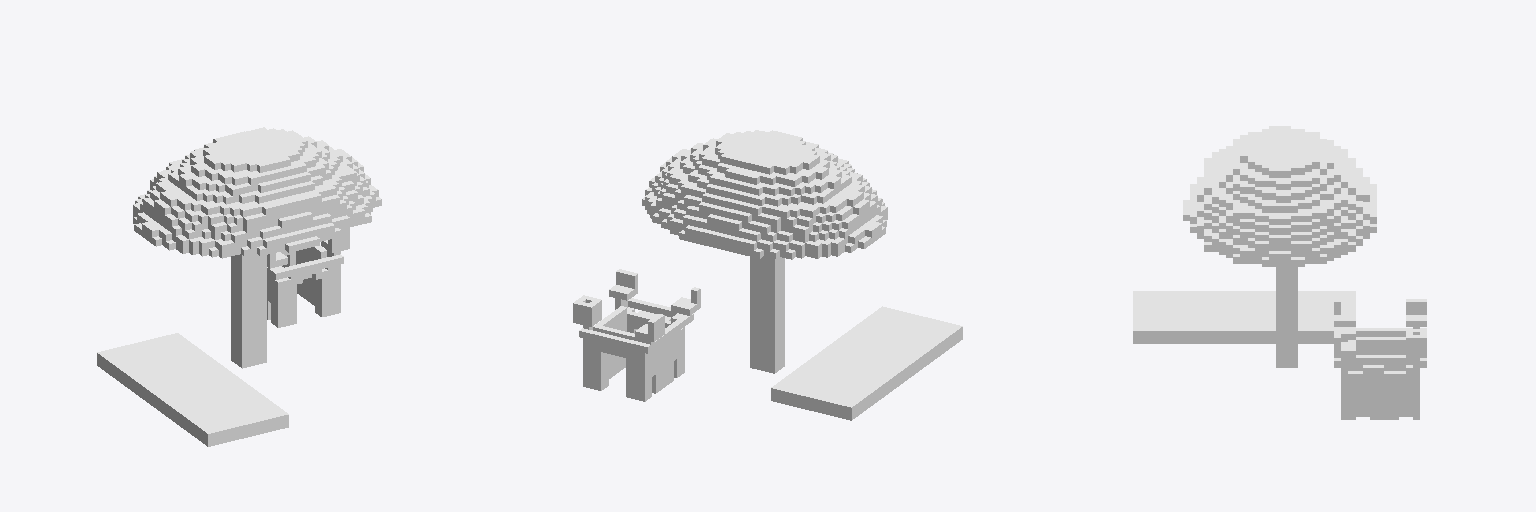
Rendered from Umbrella.obj.
3 renders of one model, left to right at view 1: azimuth 30°, elevation 25°; view 2: azimuth 150°, elevation 25°; view 3: azimuth 270°, elevation 25°, orthographic.
Visible parts, largest first — view 1: Umbrella; view 2: Umbrella; view 3: Umbrella.
Boxes of the visible parts, box(x1,y1,x2,y2) form: Umbrella: box(97, 127, 381, 446); Umbrella: box(573, 130, 962, 420); Umbrella: box(1133, 126, 1426, 419).
Bounding box in the file's own units: 39 × 33 × 41.